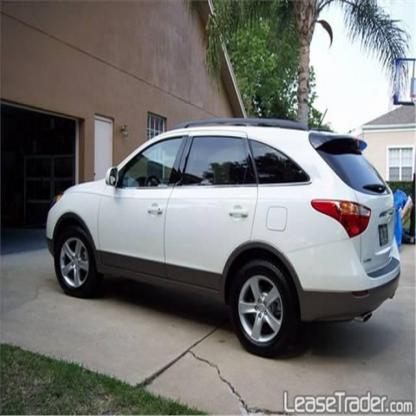Vehicle: (45, 120, 398, 360)
